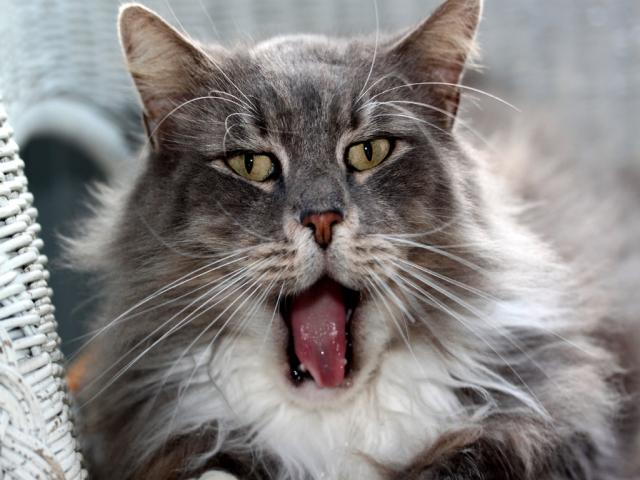Cat: (58, 2, 640, 480)
